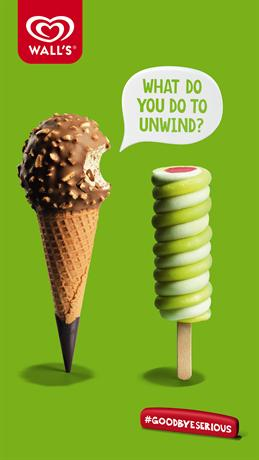Kwality_Walls: (17, 13, 80, 59)
